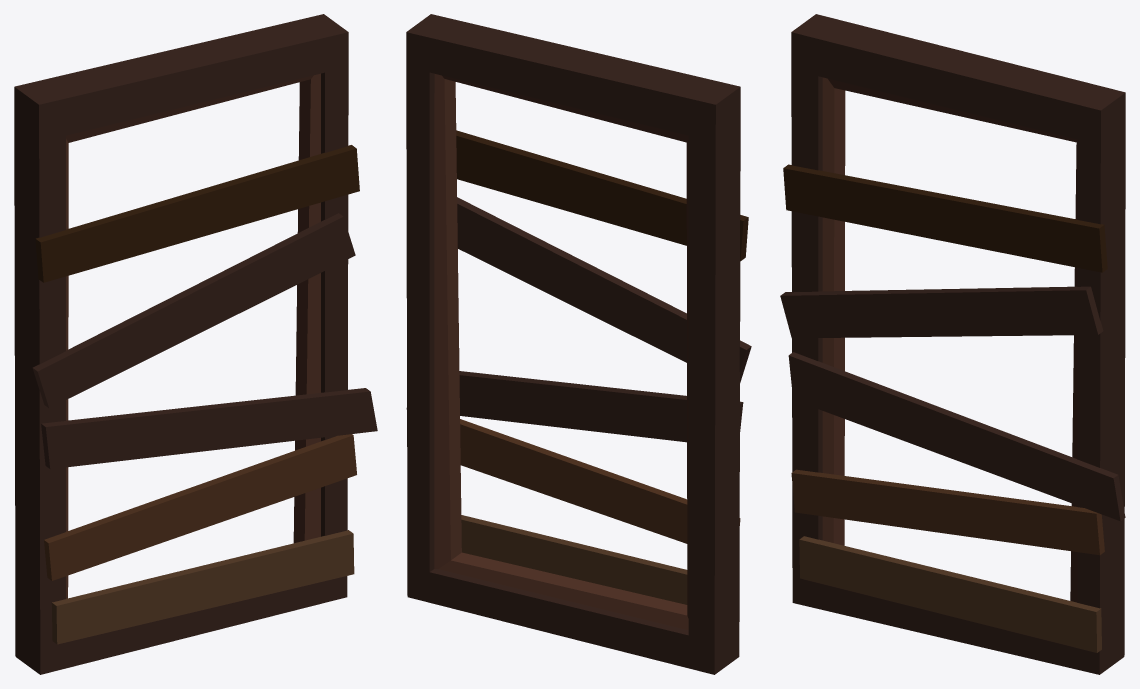
File: Window 2x4 Broken.glb
3 views of the same model, side by side, from view 1: azimuth 30°, elevation 25°; view 2: azimuth 150°, elevation 25°; view 3: azimuth 330°, elevation 25° (orthographic).
Visible parts, largest first — view 1: Window 2x4 Broken; view 2: Window 2x4 Broken; view 3: Window 2x4 Broken.
Boxes of the visible parts, left/top/right/bottom form: Window 2x4 Broken: left=14, top=14, right=377, bottom=674; Window 2x4 Broken: left=406, top=14, right=751, bottom=674; Window 2x4 Broken: left=780, top=14, right=1125, bottom=674.
Bounding box in the file's own units: 1.27 × 2.03 × 0.1913.
Materials: 1 (1 with a texture image).
